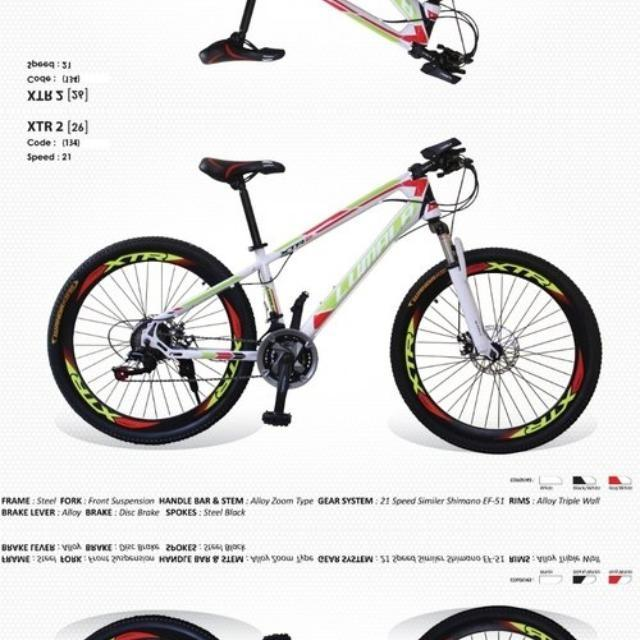obstacle: (49, 124, 640, 450), (49, 0, 640, 96), (49, 610, 640, 640)
